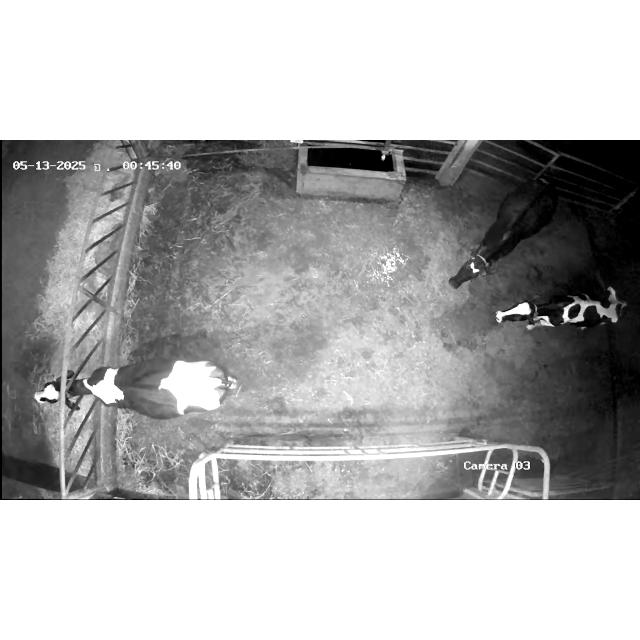stand: (449, 170, 561, 292), (488, 282, 632, 340)
